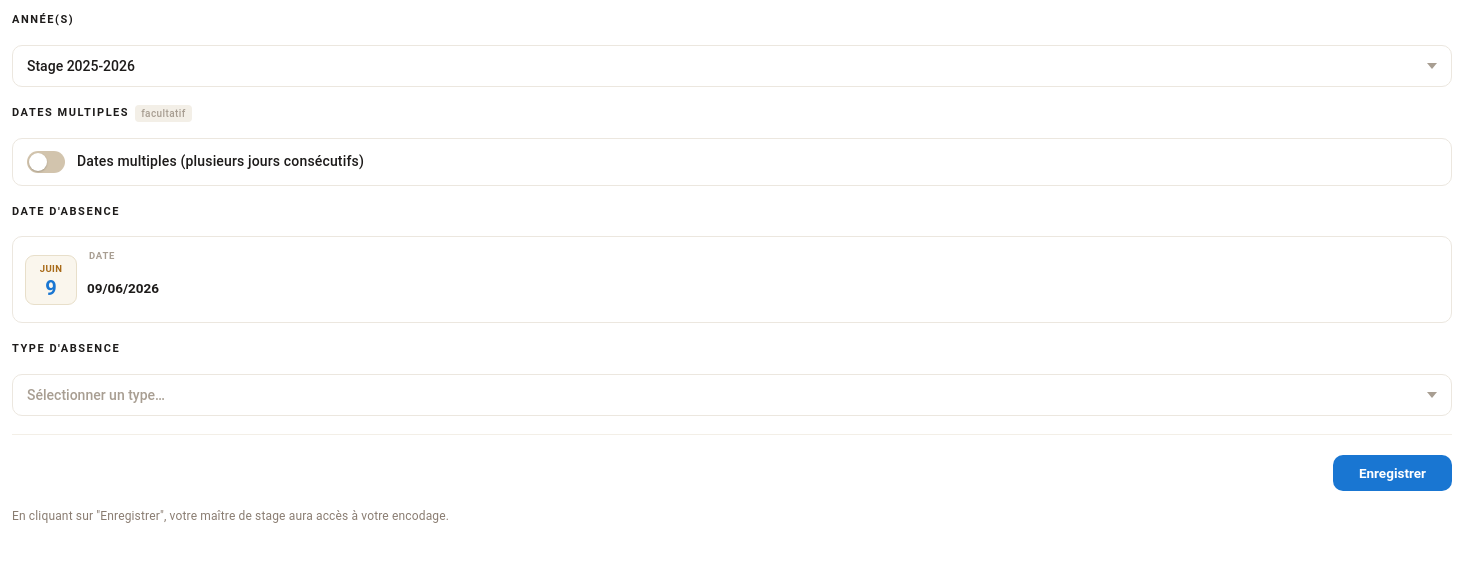
Test: Absence — validation › affiche une erreur si le type n'est pas sélectionné
The image size is (1464, 561).
What coordinates should you click on to do the following:
click the button "Enregistrer"
I would click on:
 (1392, 473)
Its box is [1333, 455, 1452, 491].
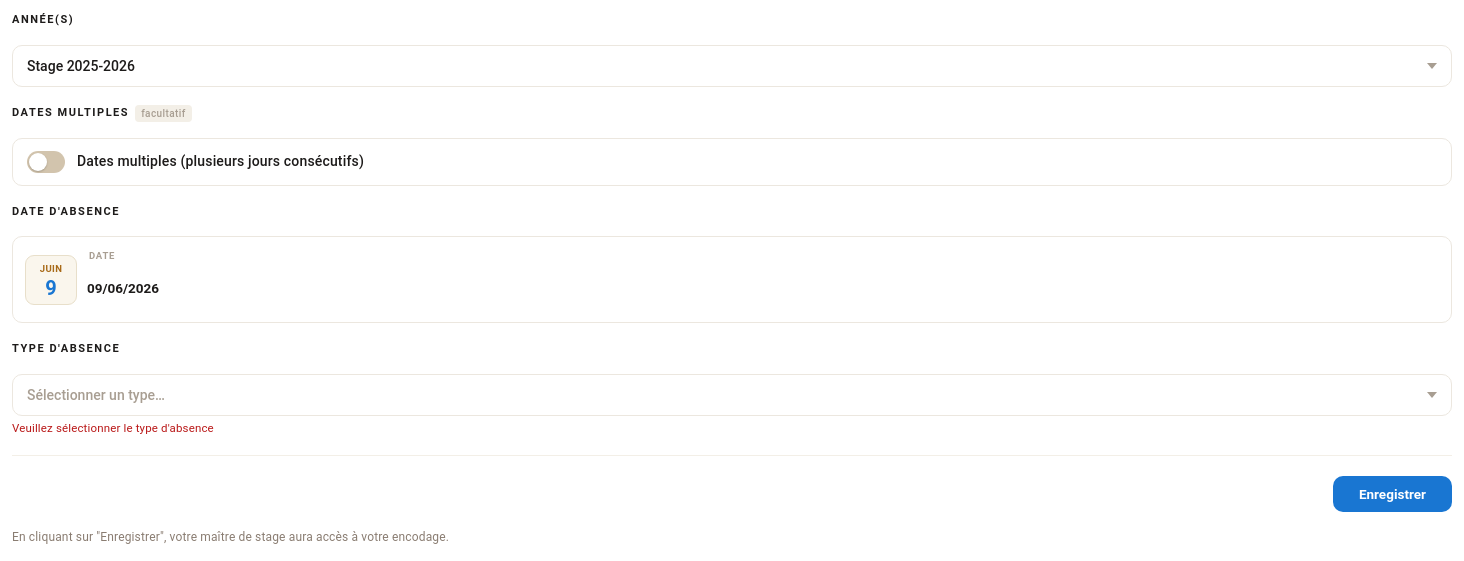
Expected: the text "Veuillez sélectionner le type d'absence" is shown, [12, 421, 214, 435]
